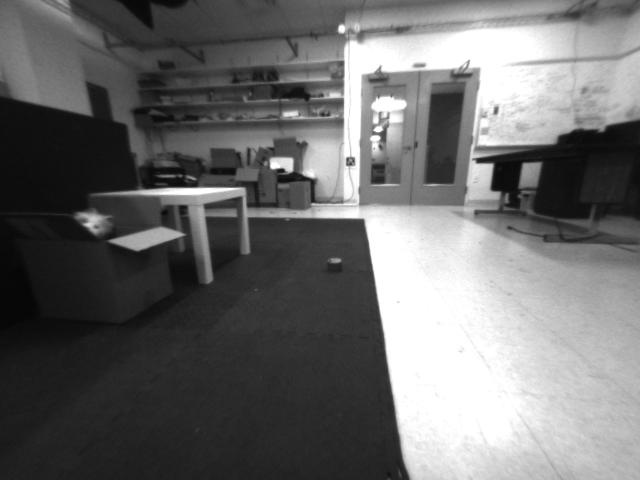dogtoy: (322, 248, 352, 284)
